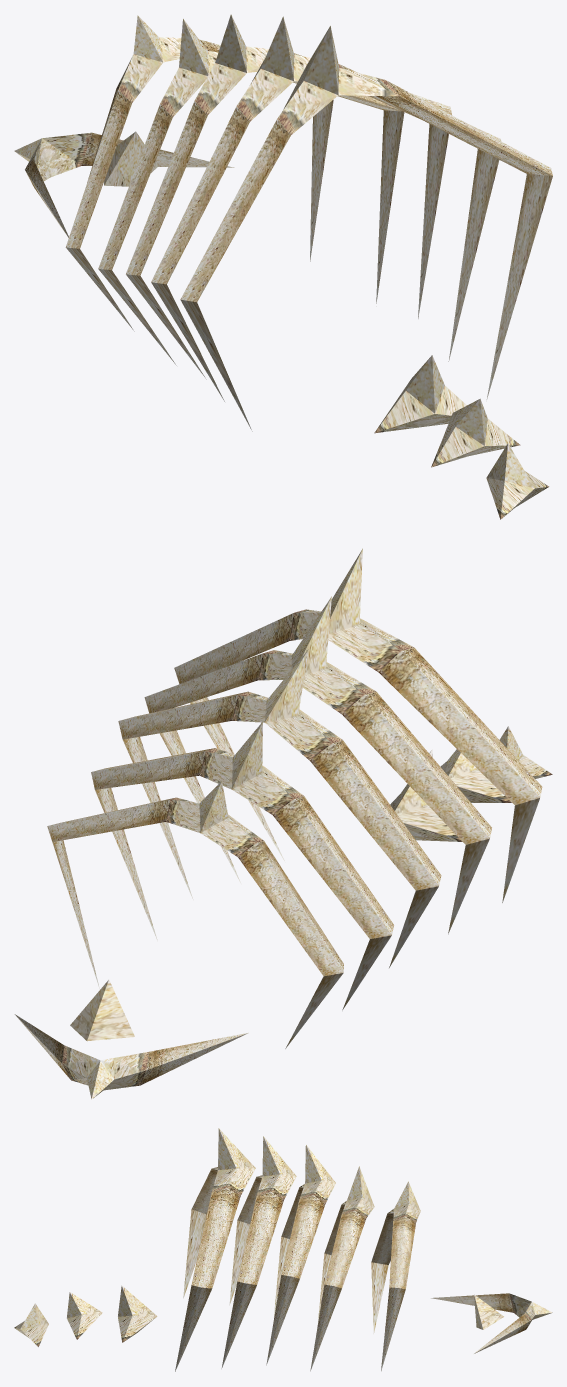
The model's file is poi_tato_skel_krayt_ribcage_l2.fbx.
3 views of the same model, one above another, from view 1: azimuth 30°, elevation 25°; view 2: azimuth 150°, elevation 25°; view 3: azimuth 270°, elevation 25° (orthographic). The views are drawn at different scales.
Visible parts, largest first — view 1: mesh_node; view 2: mesh_node; view 3: mesh_node.
Boxes of the visible parts, x1=… form: mesh_node: x1=14, y1=14, x2=552, y2=519; mesh_node: x1=14, y1=548, x2=552, y2=1099; mesh_node: x1=14, y1=1128, x2=552, y2=1371.
Bounding box in the file's own units: 4.38 × 4.44 × 9.75.
2 materials, 2 textured.
